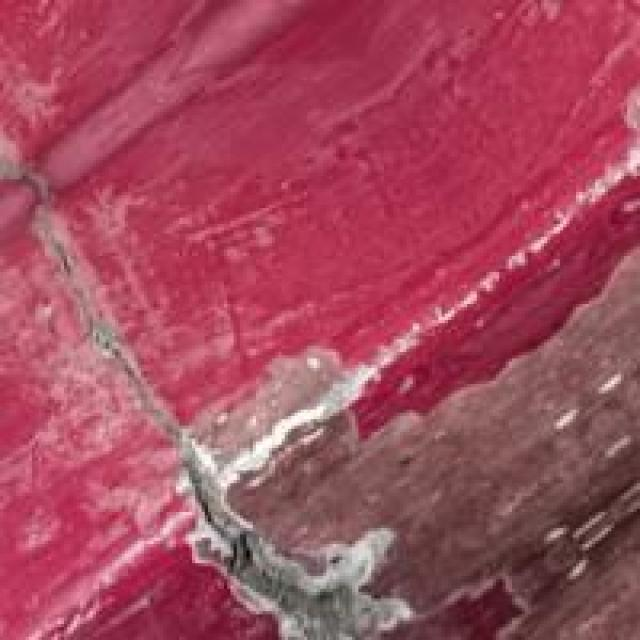Crack: (35, 157, 403, 634)
